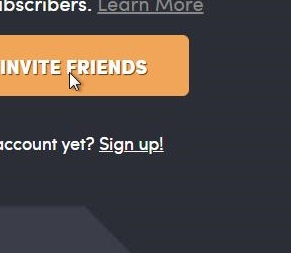cursor: (67, 70, 82, 92)
